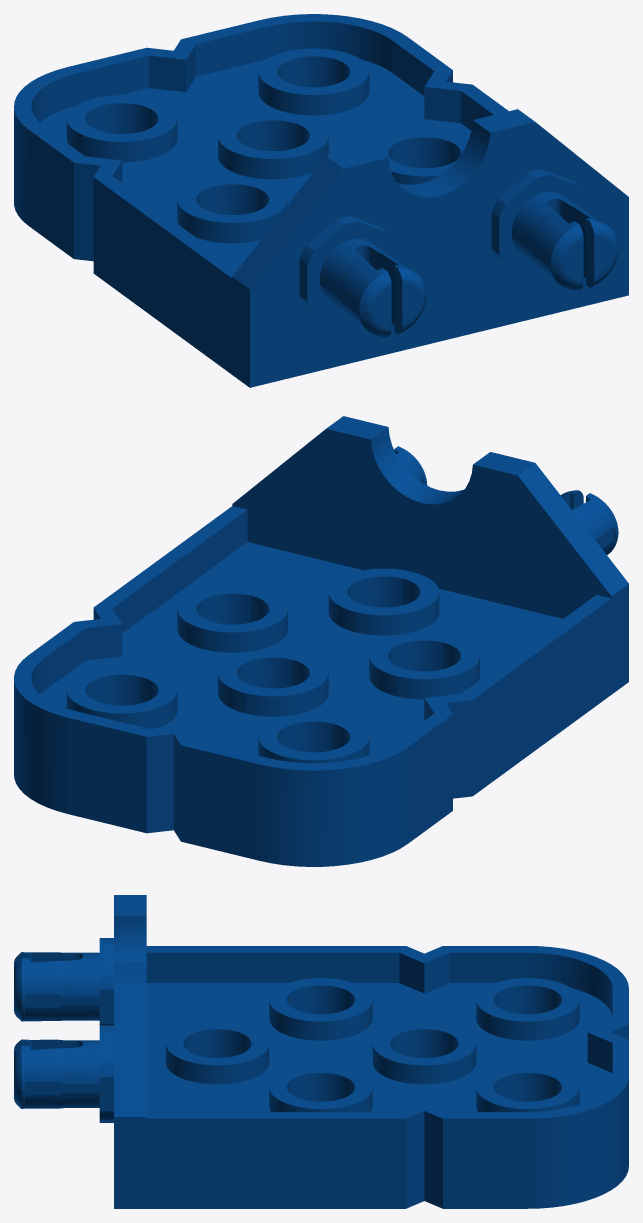
The model's file is 2x Wide, 2x2 Offset Corner Connector (Weak) (228-2500-2296).glb.
3 views of the same model, one above another, from view 1: azimuth 30°, elevation 25°; view 2: azimuth 150°, elevation 25°; view 3: azimuth 270°, elevation 25° (orthographic). The views are drawn at different scales.
Parts seen in each view (by area): view 1: 2x Wide, 2x2 Offset Corner Connector (Weak) (228-2500-2296); view 2: 2x Wide, 2x2 Offset Corner Connector (Weak) (228-2500-2296); view 3: 2x Wide, 2x2 Offset Corner Connector (Weak) (228-2500-2296).
Part boxes in pixels (<box>): 2x Wide, 2x2 Offset Corner Connector (Weak) (228-2500-2296): <box>14,14,628,387</box>; 2x Wide, 2x2 Offset Corner Connector (Weak) (228-2500-2296): <box>14,416,628,866</box>; 2x Wide, 2x2 Offset Corner Connector (Weak) (228-2500-2296): <box>14,895,628,1208</box>.
Bounding box in the file's own units: 0.9882 × 0.4892 × 1.49.
